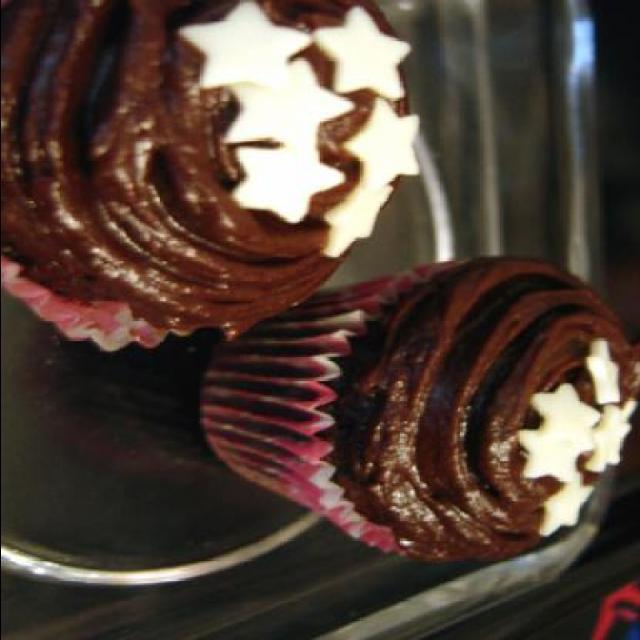Muffin: (2, 0, 427, 352), (183, 278, 632, 580)
